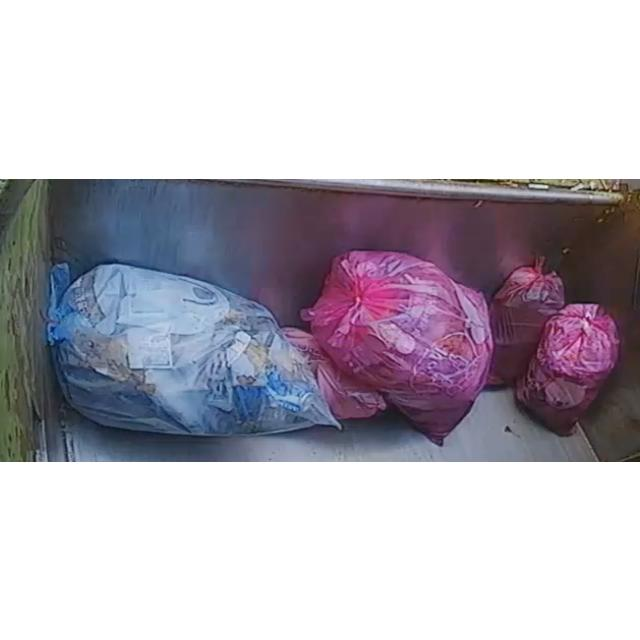other_trashbag: (49, 263, 340, 434), (302, 249, 492, 442), (515, 303, 620, 434), (489, 256, 565, 384), (283, 327, 386, 418)
